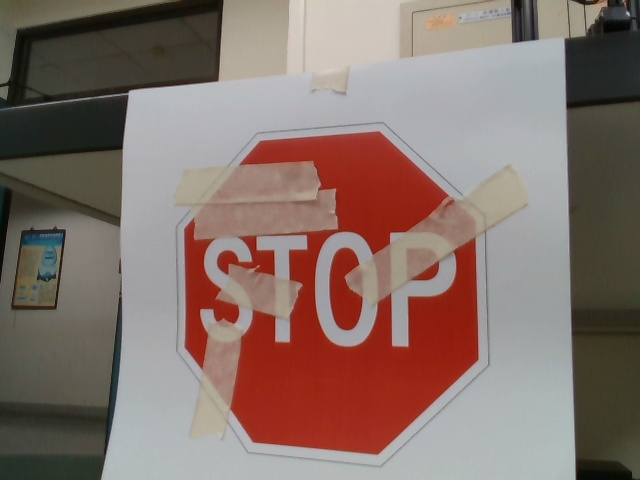stop: (167, 118, 499, 469)
